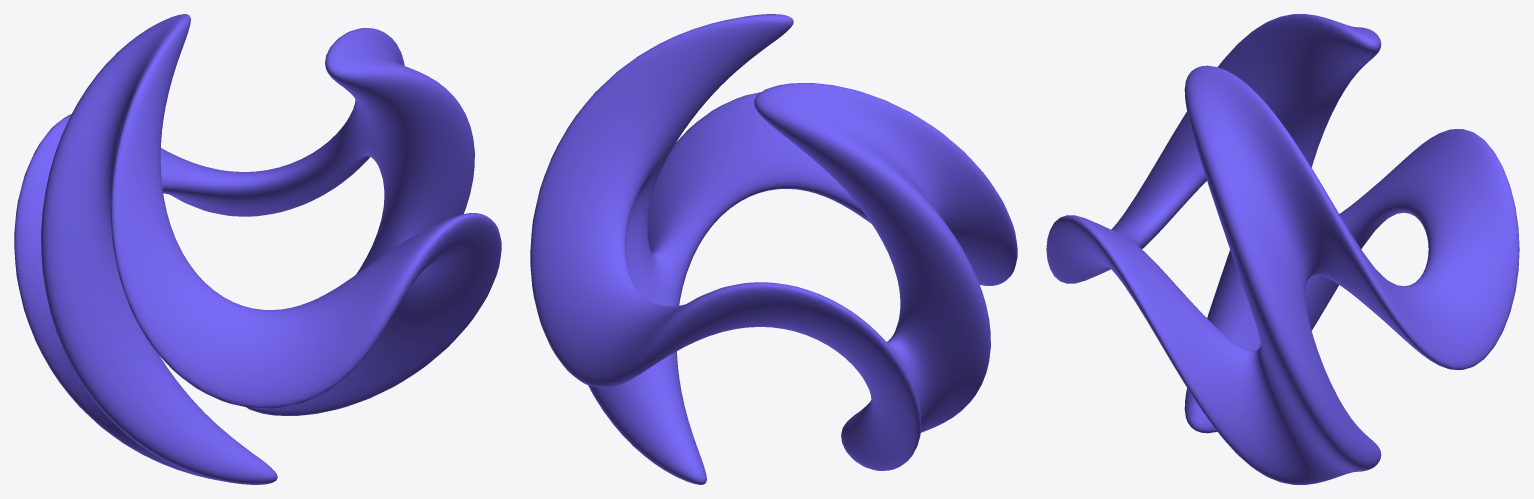
The picture shows the model from 3 angles, left to right: view 1: azimuth 30°, elevation 25°; view 2: azimuth 150°, elevation 25°; view 3: azimuth 270°, elevation 25°; orthographic projection. The views are drawn at different scales.
Parts seen in each view (by area): view 1: TwistedTorus; view 2: TwistedTorus; view 3: TwistedTorus.
Part boxes in pixels (x1,y1,x2,y2): TwistedTorus: [14, 14, 501, 484]; TwistedTorus: [530, 14, 1017, 484]; TwistedTorus: [1046, 14, 1519, 484].
Bounding box in the file's own units: 2.47 × 2.32 × 2.47.
